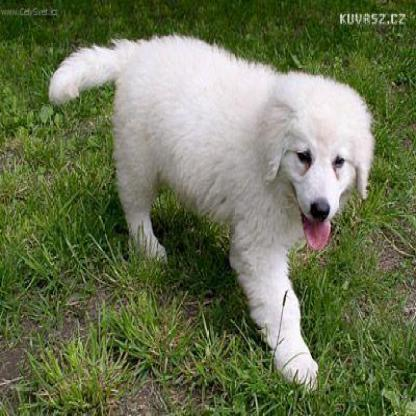kuvasz: (46, 28, 372, 391)
